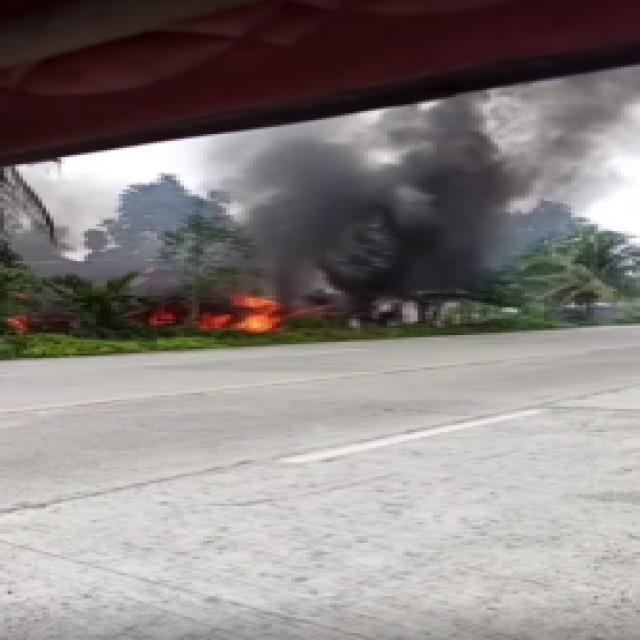Fire: (180, 282, 310, 336)
Smoke: (196, 156, 455, 312), (402, 111, 618, 225)
